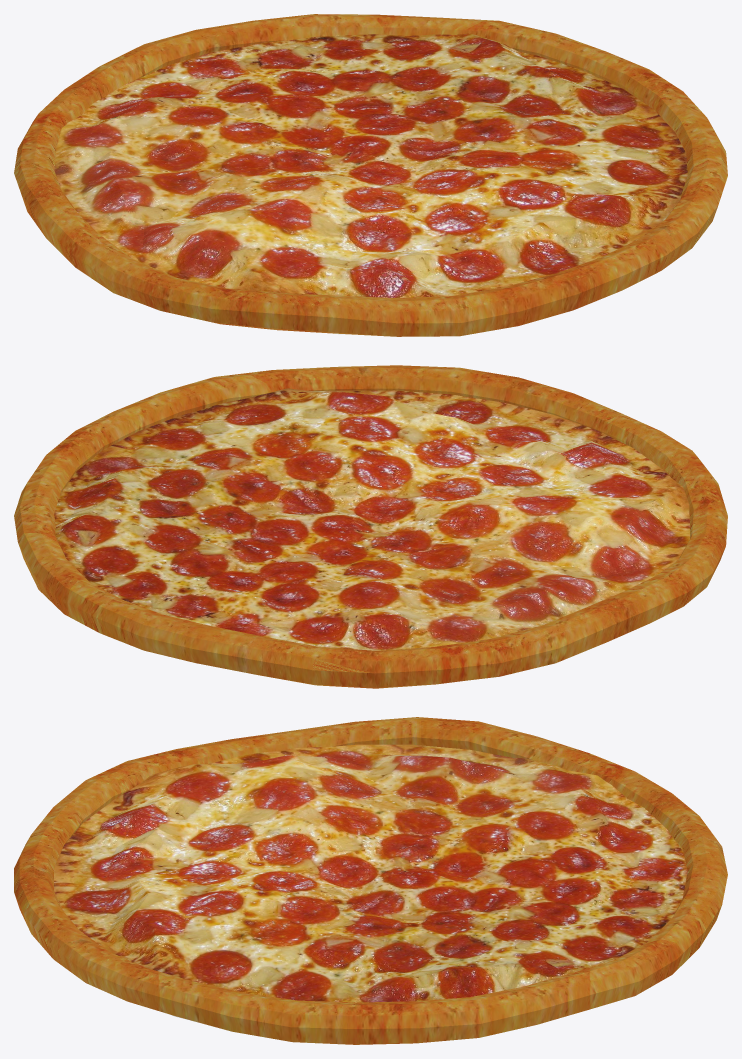
Rendered from pepperoni_2.glb.
3 renders of one model, top to bottom at view 1: azimuth 30°, elevation 25°; view 2: azimuth 150°, elevation 25°; view 3: azimuth 270°, elevation 25°, orthographic.
Visible parts, largest first — view 1: Material2.007; view 2: Material2.007; view 3: Material2.007.
Boxes of the visible parts, x1,y1,x2,y2 form: Material2.007: (14,14,727,336); Material2.007: (14,365,727,688); Material2.007: (14,717,727,1044).
Size of the model in its own units: 1.22 by 0.0966 by 1.22.
2 materials, 2 textured.
